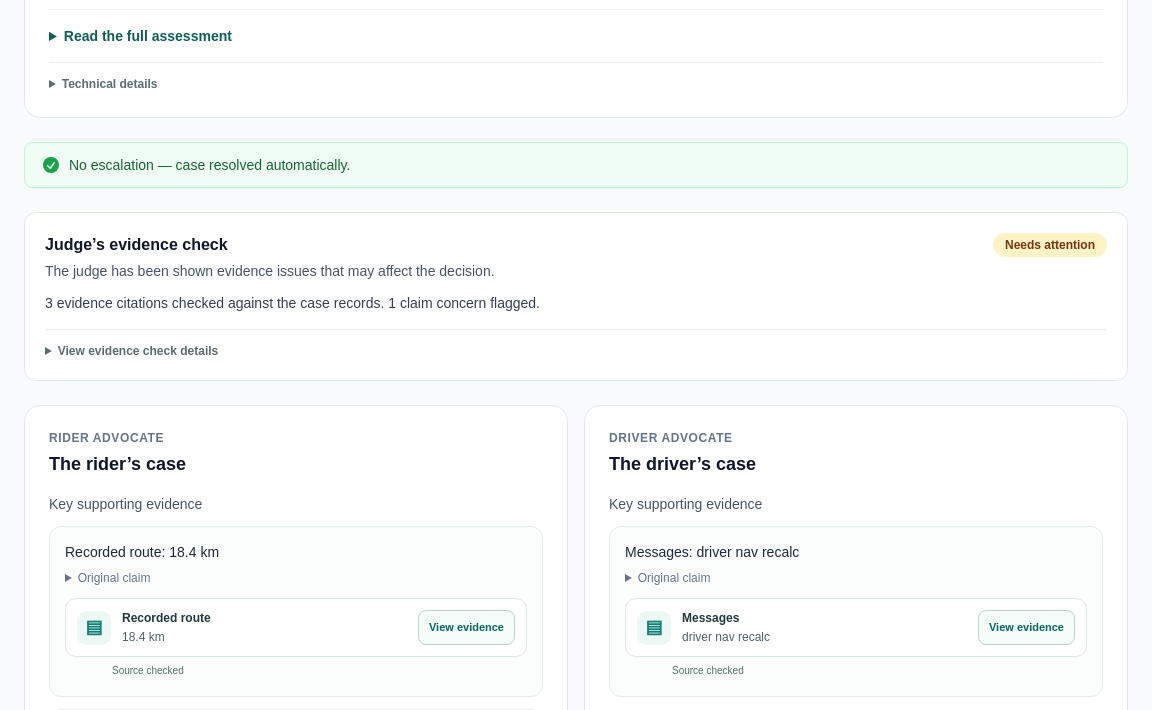
Test: CaseView › shows structured review findings and provider names without model names
This screenshot has width=1152, height=710.
(page scrolled)
Expected: the element with test id "judge-evidence-review" is shown, [24,212,1128,381]
Expected: the element with test id "judge-evidence-review" shows "Needs attention", [1005,238,1095,252]
Click the heading "View evidence check details": (138,351) [58,344,218,358]
(page scrolled)
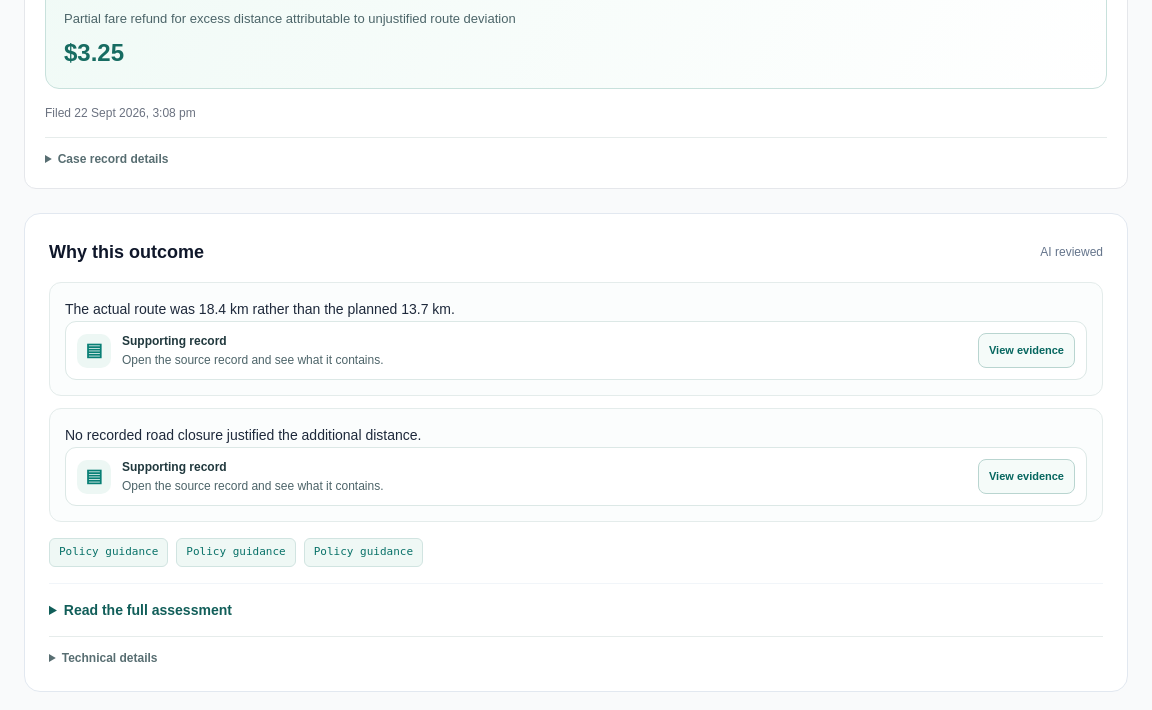
Click the 1st button "View evidence": (1026,351) [978,333,1075,368]
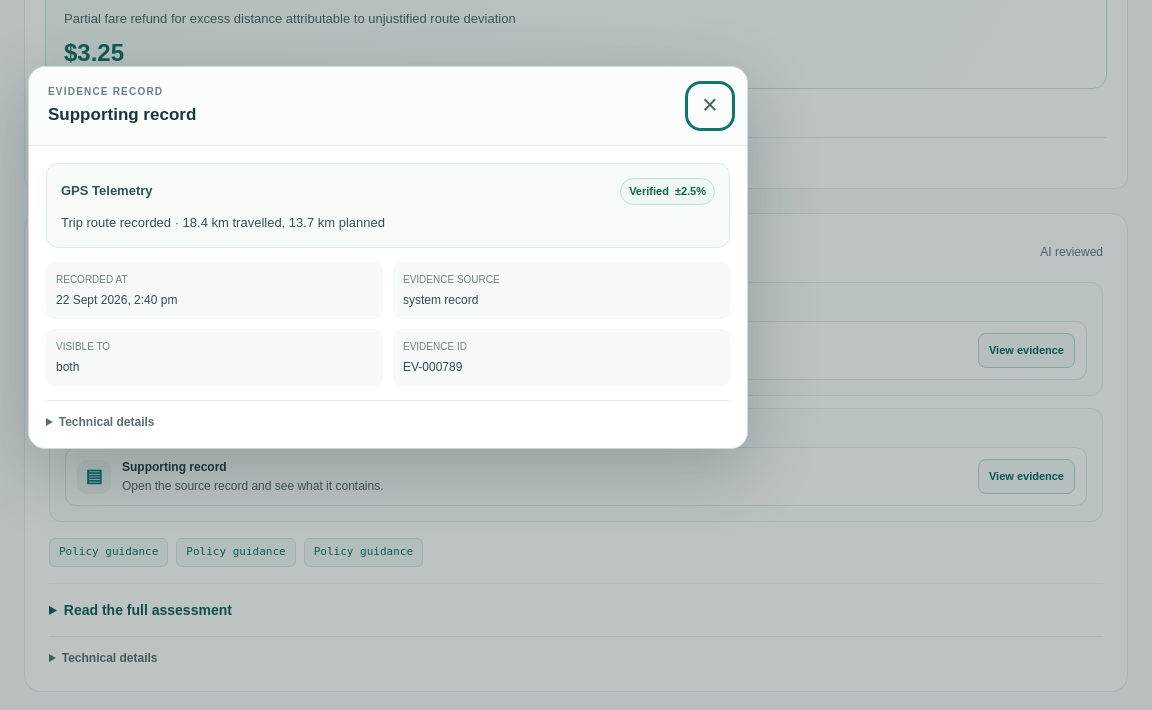
Expected: the dialog with test id "evidence-detail-EV-000789" is shown, [28,66,748,449]
Expected: the text "Verified" is shown, [629,182,669,200]
